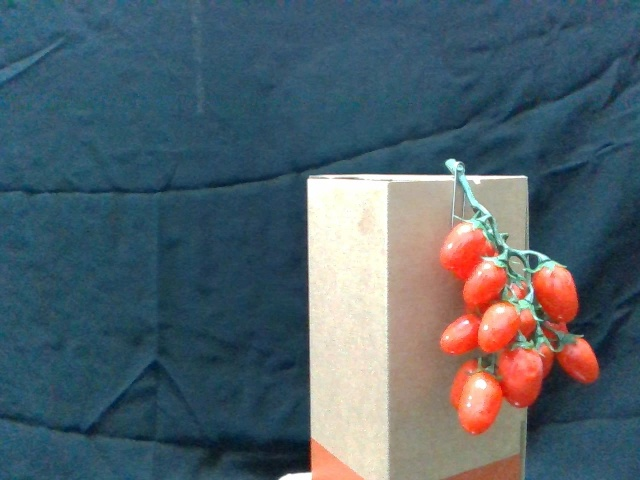tomato: (533, 258, 584, 323), (459, 368, 502, 432), (443, 215, 489, 273), (478, 298, 524, 353), (504, 341, 542, 407), (461, 256, 507, 309), (557, 333, 601, 384), (437, 310, 483, 358)
